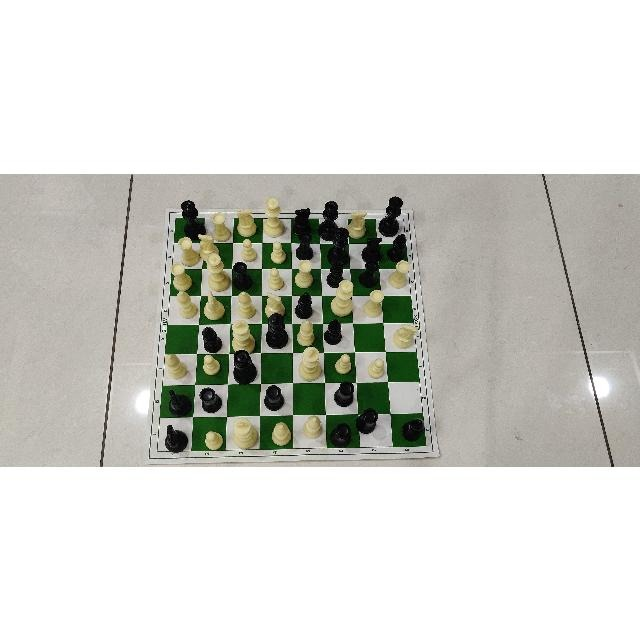black-bishop: (400, 417, 426, 443), (201, 325, 225, 353), (325, 259, 349, 287), (322, 316, 345, 344), (386, 230, 407, 260), (294, 290, 316, 318)
black-king: (377, 192, 408, 234), (326, 223, 352, 266), (262, 309, 289, 350)
black-knight: (161, 420, 193, 453), (165, 389, 195, 417), (291, 206, 316, 236), (361, 236, 385, 262)
black-queen: (179, 197, 210, 239), (231, 348, 256, 384), (318, 200, 340, 240)
black-rook: (197, 386, 227, 414), (231, 261, 258, 289), (330, 380, 357, 408), (354, 408, 384, 433), (328, 419, 355, 446), (358, 258, 383, 286), (264, 385, 290, 411), (296, 230, 316, 259)
white-bishop: (173, 287, 197, 320), (161, 351, 189, 378), (232, 290, 257, 318), (269, 421, 295, 446), (301, 412, 323, 440), (297, 319, 319, 347)
white-king: (230, 315, 259, 354), (229, 415, 261, 450), (293, 345, 324, 381)
white-knight: (391, 317, 419, 352), (197, 231, 225, 261), (345, 210, 374, 238), (201, 288, 227, 319), (233, 207, 259, 237), (262, 289, 287, 319)
white-pawn: (264, 265, 288, 291), (238, 235, 261, 261), (266, 240, 290, 264), (201, 428, 227, 450), (365, 355, 389, 378), (199, 352, 223, 375), (333, 351, 353, 375)
white-queen: (200, 252, 231, 290), (262, 197, 288, 237), (331, 277, 355, 319)
white-rook: (208, 210, 234, 242), (387, 258, 411, 290), (175, 237, 201, 264), (169, 263, 195, 290), (294, 259, 316, 287), (363, 289, 385, 317)
